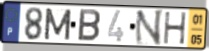4: (107, 9, 126, 44)
8: (23, 6, 45, 41)
B: (76, 7, 102, 43)
H: (163, 11, 188, 46)
M: (42, 7, 73, 42)
N: (134, 9, 165, 46)
